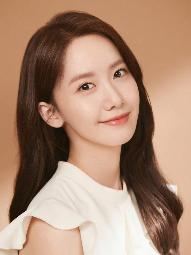face: (64, 37, 140, 145)
